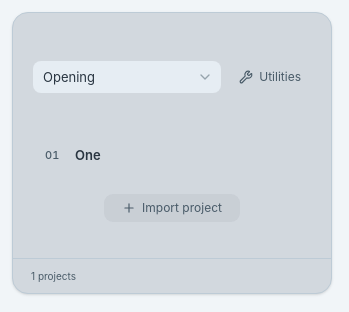
Test case: performance folders (#153) › renames the current folder but refuses another folder’s name
Right-click the dropdown named "Performance folder" at (127, 77), box [33,61,221,93]
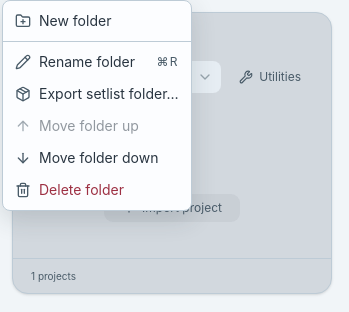
Click the menu item with test id "menu-rename-folder" at (97, 62), box [15,53,179,70]
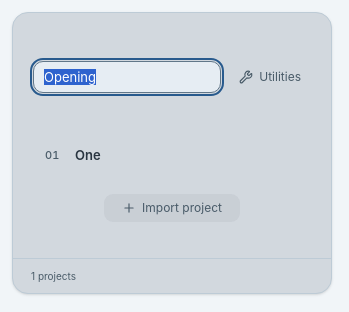
Replace the text in the field with test id "folder-name-input" with "Finale" at (127, 77), box [33,61,221,93]
Then press Enter
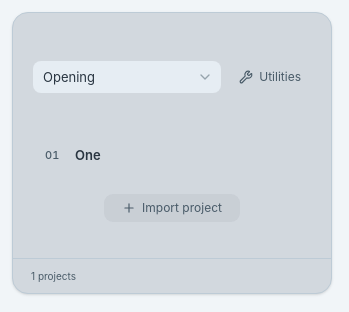
expect the dropdown named "Performance folder" reads "Opening": met, box [33,61,221,93]
